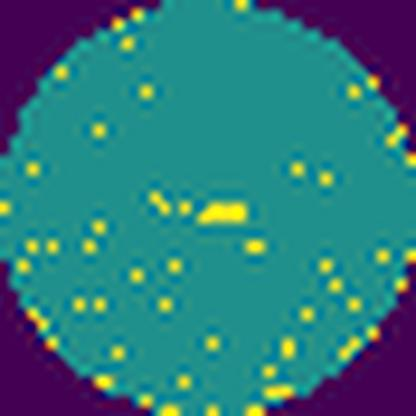Center: (189, 197, 253, 229)
